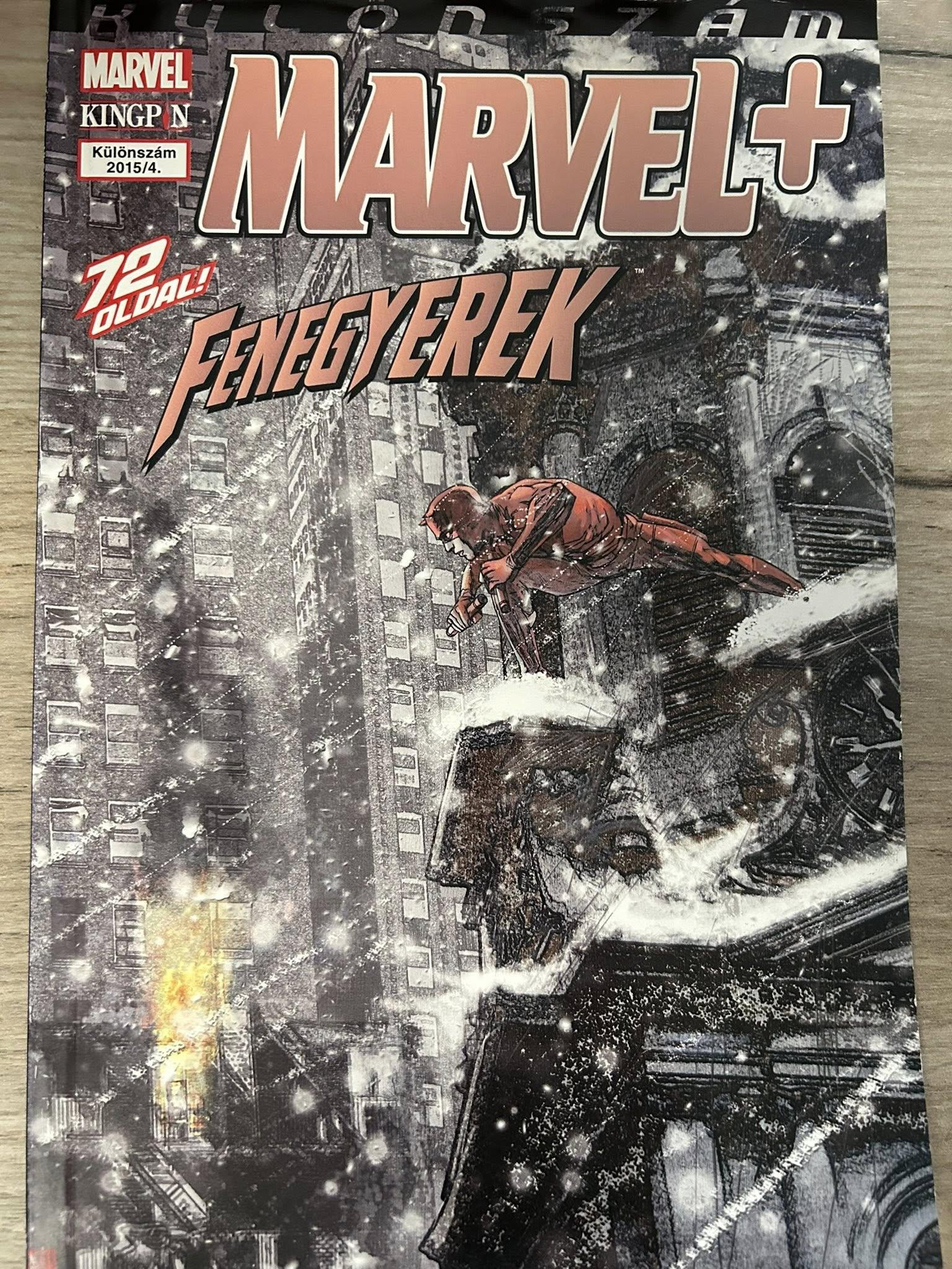comic: (29, 0, 940, 1268)
